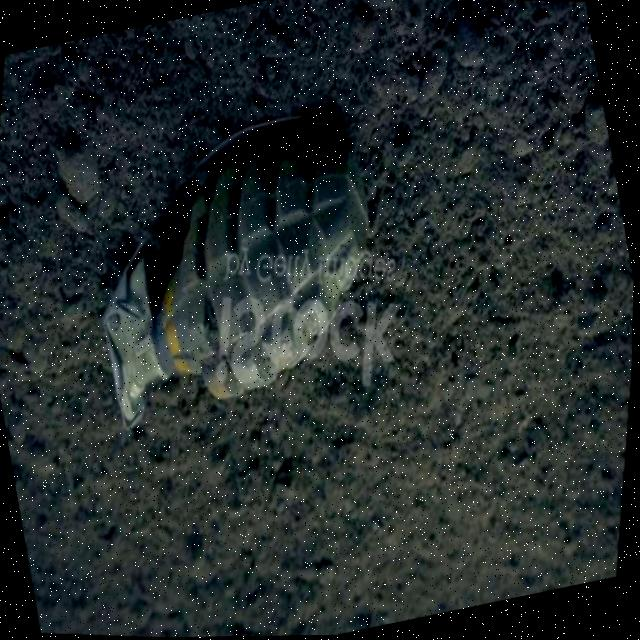grenade: (35, 48, 447, 498)
